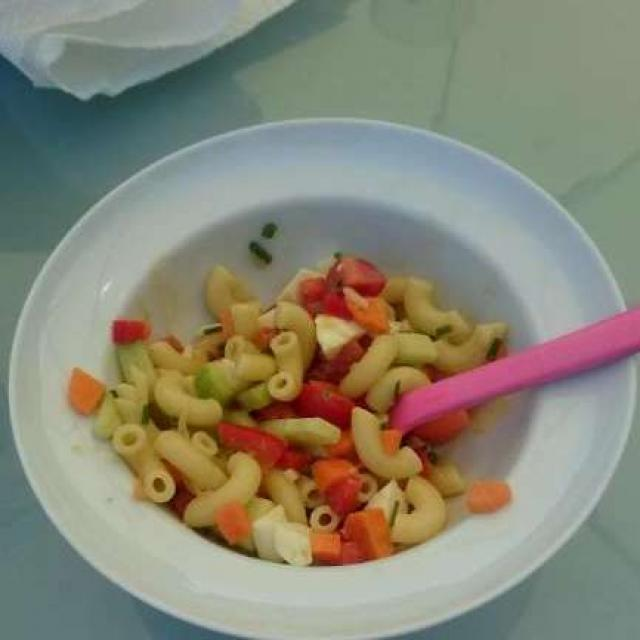mozzarella: (252, 313, 367, 570)
pasta-in-conch-form: (82, 260, 506, 559)
vegetables: (182, 249, 401, 559)
